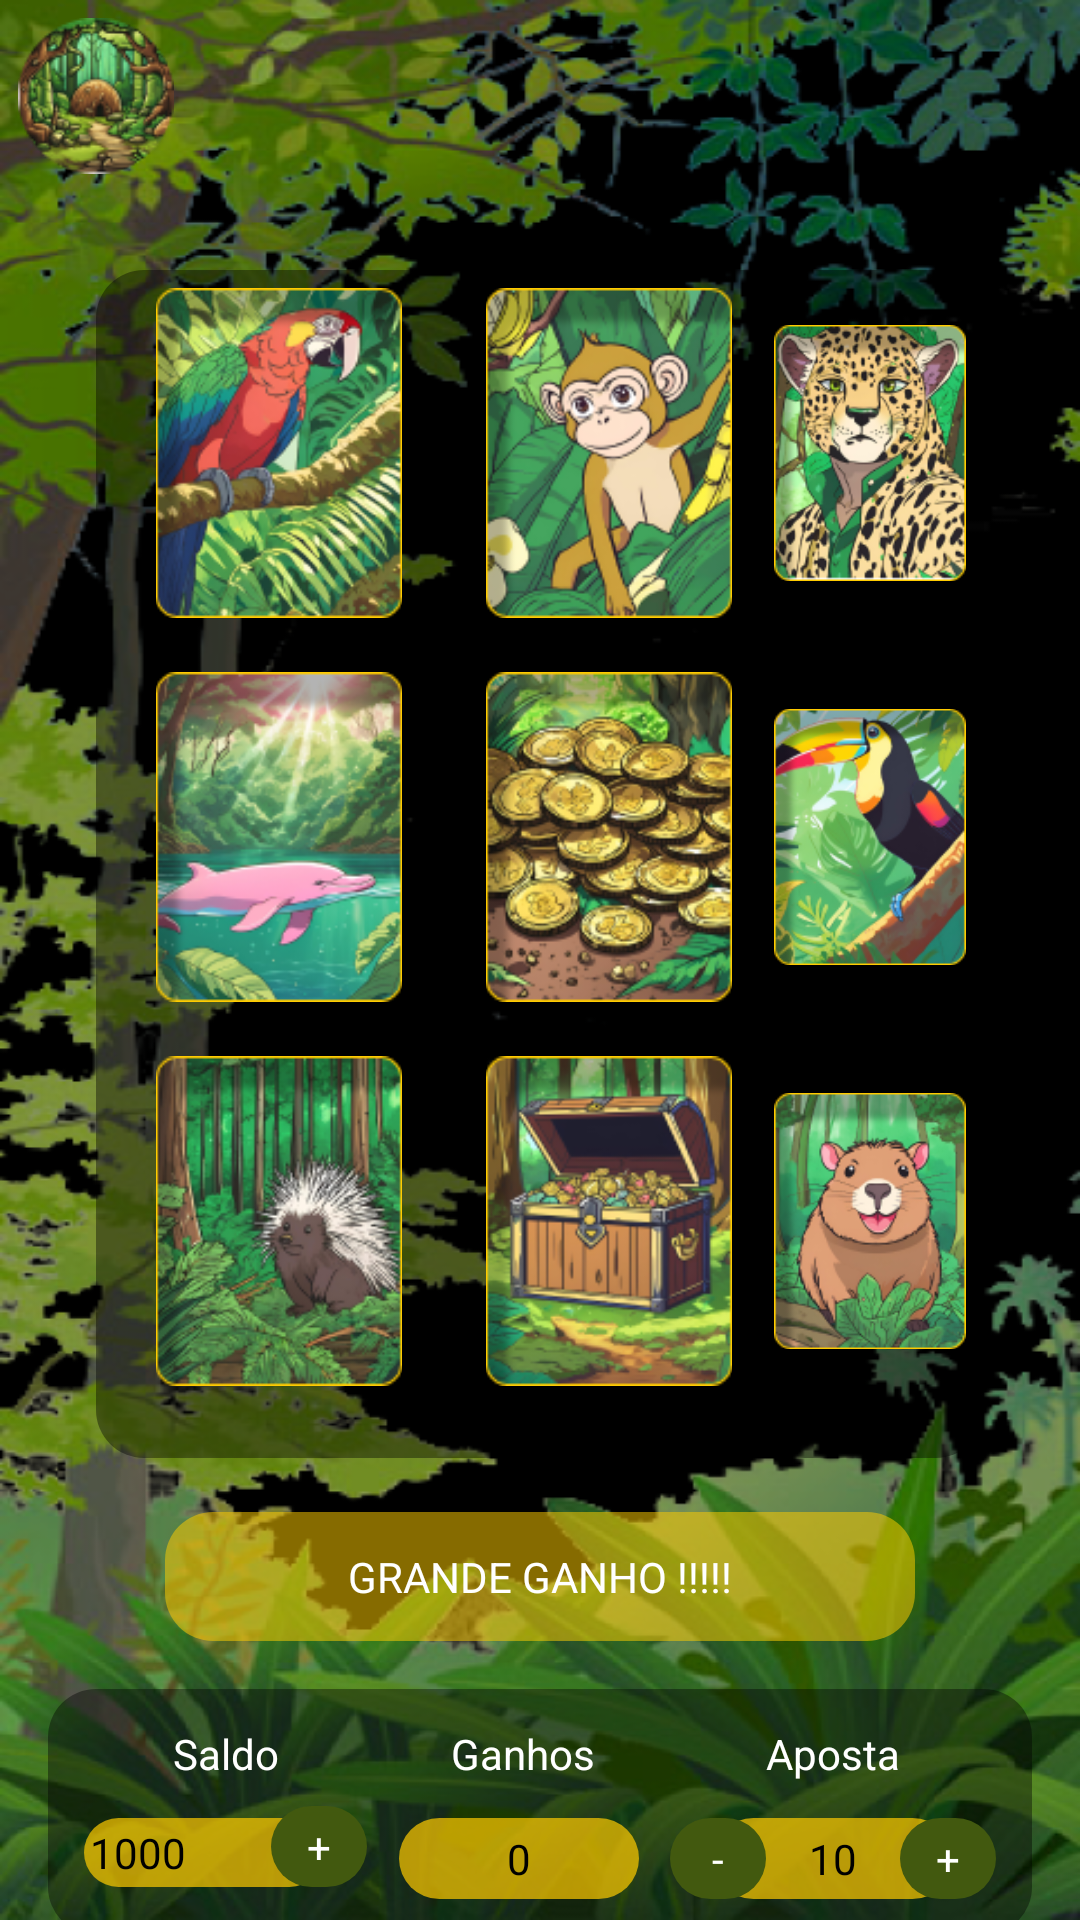

Where to tap for icons on this 1080 x 1920 app screen, as [x,y]:
arara: [279,453]
boto: [258,837]
capivara: [870,1239]
corpo espinho: [279,1221]
macaco: [598,453]
moedas: [609,837]
onca: [870,448]
tesouro: [588,1221]
tucano: [870,837]
